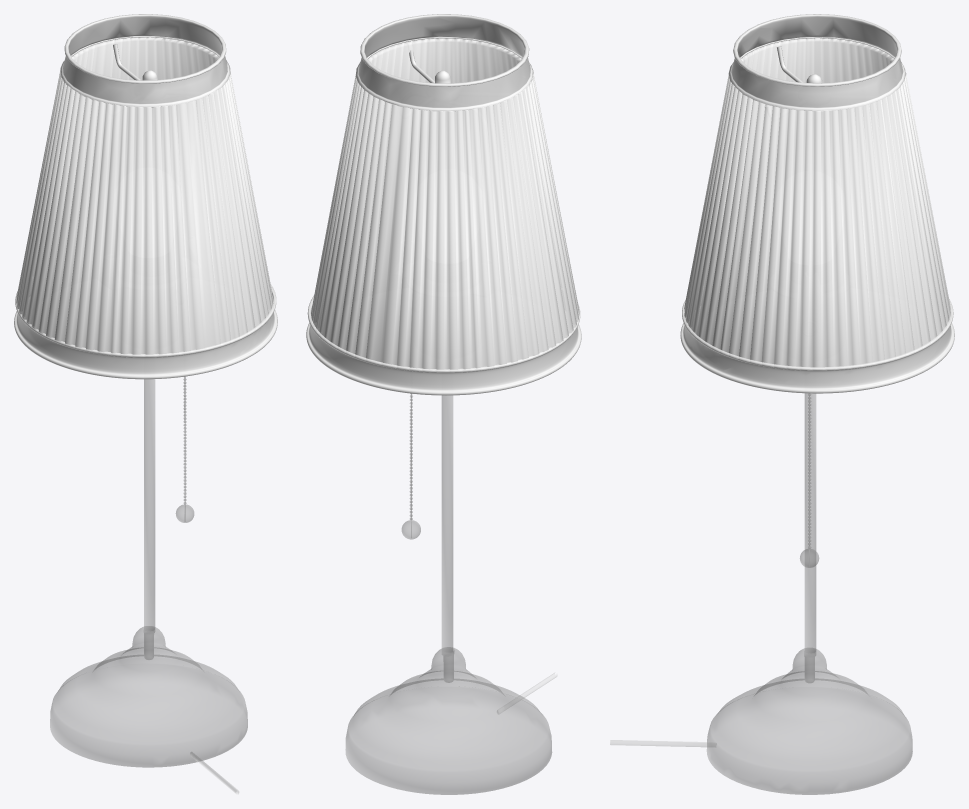
3 views of the same model, side by side, from view 1: azimuth 30°, elevation 25°; view 2: azimuth 150°, elevation 25°; view 3: azimuth 270°, elevation 25° (orthographic). The views are drawn at different scales.
Parts seen in each view (by area): view 1: Shade.001, lamp base; view 2: Shade.001, lamp base; view 3: Shade.001, lamp base.
Boxes of the visible parts, x1=… form: Shade.001: x1=14, y1=14, x2=277, y2=379; lamp base: x1=50, y1=376, x2=247, y2=767; Shade.001: x1=306, y1=14, x2=581, y2=395; lamp base: x1=345, y1=393, x2=551, y2=794; Shade.001: x1=680, y1=14, x2=954, y2=393; lamp base: x1=707, y1=393, x2=912, y2=794.
Bounding box in the file's own units: 0.1983 × 0.5601 × 0.2492.
Materials: 5 (5 with a texture image).
